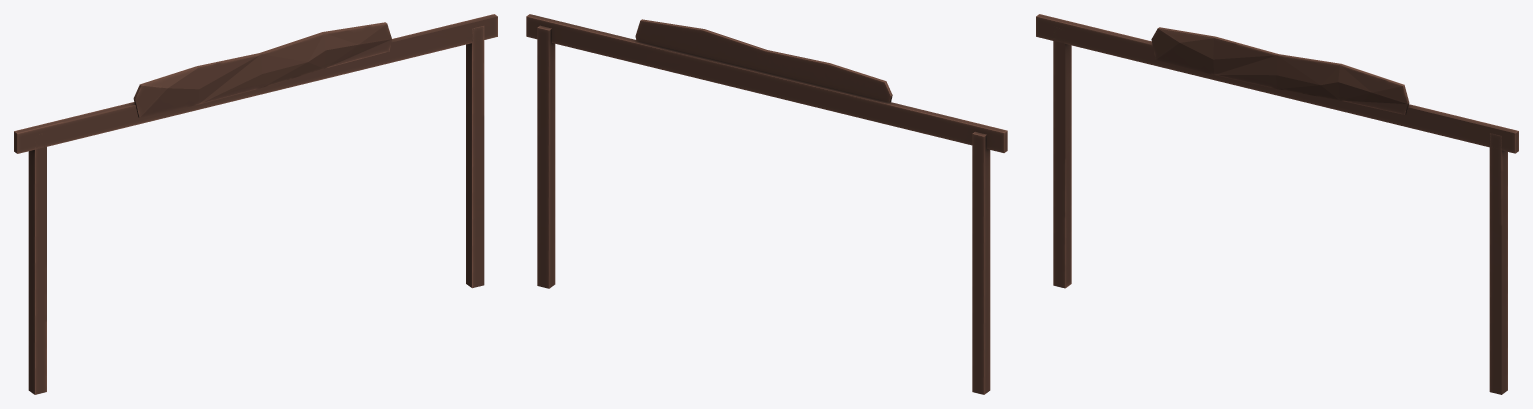
Rendered from Sign_2.fbx.
3 views of the same model, side by side, from view 1: azimuth 30°, elevation 25°; view 2: azimuth 150°, elevation 25°; view 3: azimuth 330°, elevation 25° (orthographic).
Parts seen in each view (by area): view 1: Sign_2; view 2: Sign_2; view 3: Sign_2.
Part boxes in pixels (x1,y1,x2,y2): Sign_2: (14,14,497,394); Sign_2: (526,14,1007,394); Sign_2: (1036,14,1518,394).
Size of the model in its own units: 256 by 149 by 8.62.
